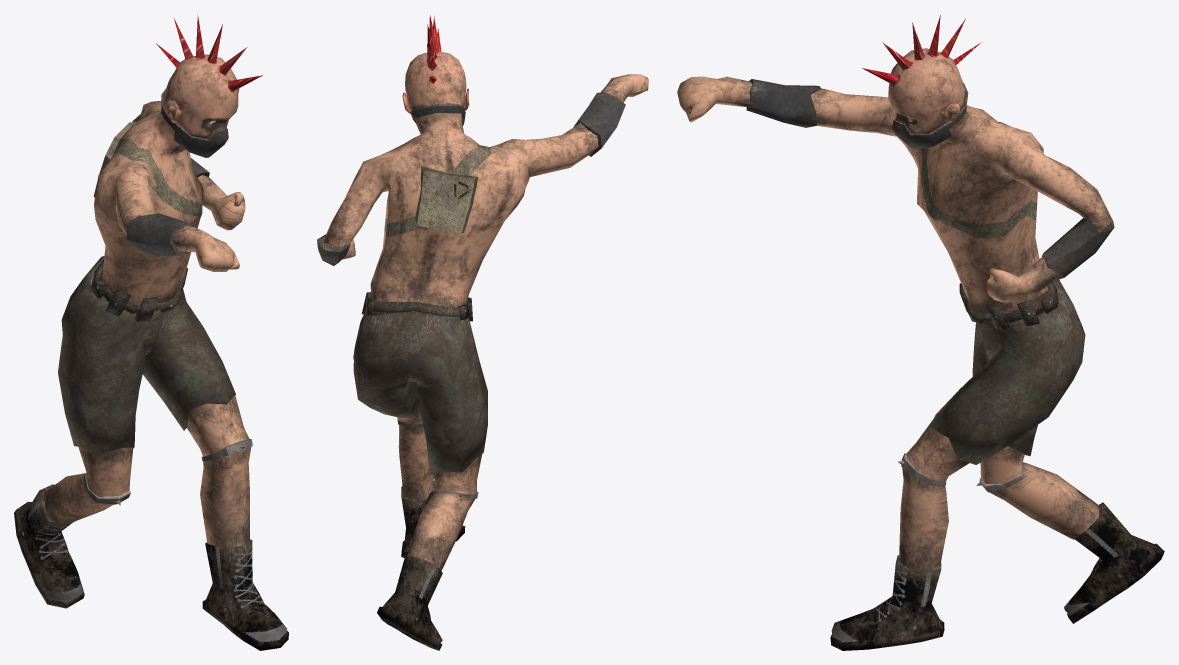
File: Anim_ataque_d1_npc2.0024.obj
3 views of the same model, side by side, from view 1: azimuth 30°, elevation 25°; view 2: azimuth 150°, elevation 25°; view 3: azimuth 270°, elevation 25° (orthographic). The views are drawn at different scales.
Parts seen in each view (by area): view 1: polySurface1; view 2: polySurface1; view 3: polySurface1.
Boxes of the visible parts, box(x1,y1,x2,y2) form: polySurface1: box(14, 14, 288, 650); polySurface1: box(317, 15, 648, 650); polySurface1: box(677, 15, 1164, 650).
Size of the model in its own units: 3.3 by 9.54 by 6.59.
